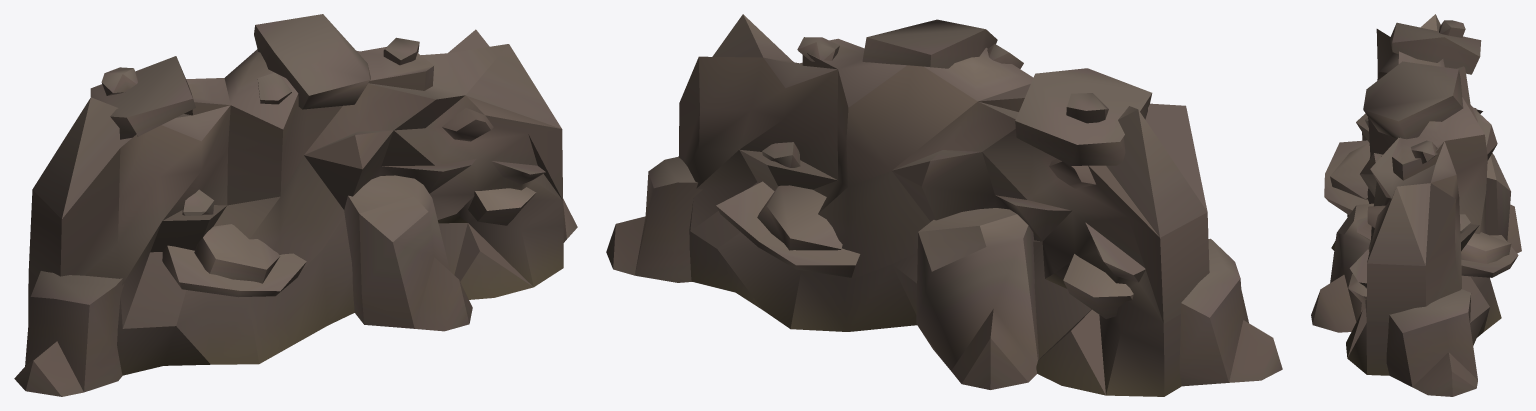
The model's file is rubble.glb.
The picture shows the model from 3 angles, left to right: view 1: azimuth 30°, elevation 25°; view 2: azimuth 150°, elevation 25°; view 3: azimuth 270°, elevation 25°; orthographic projection. The views are drawn at different scales.
Parts seen in each view (by area): view 1: rubble_large; view 2: rubble_large; view 3: rubble_large.
Boxes of the visible parts, x1,y1,x2,y2 form: rubble_large: [14, 14, 577, 396]; rubble_large: [606, 14, 1282, 396]; rubble_large: [1311, 14, 1521, 396].
Bounding box in the file's own units: 8.13 × 3.5 × 3.18.
1 material, 1 textured.
